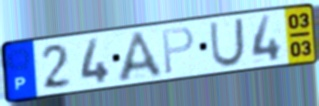2: (40, 42, 74, 93)
4: (249, 13, 285, 64), (78, 35, 112, 86)
A: (116, 29, 167, 85)
P: (160, 25, 196, 77)
U: (208, 16, 247, 69)
